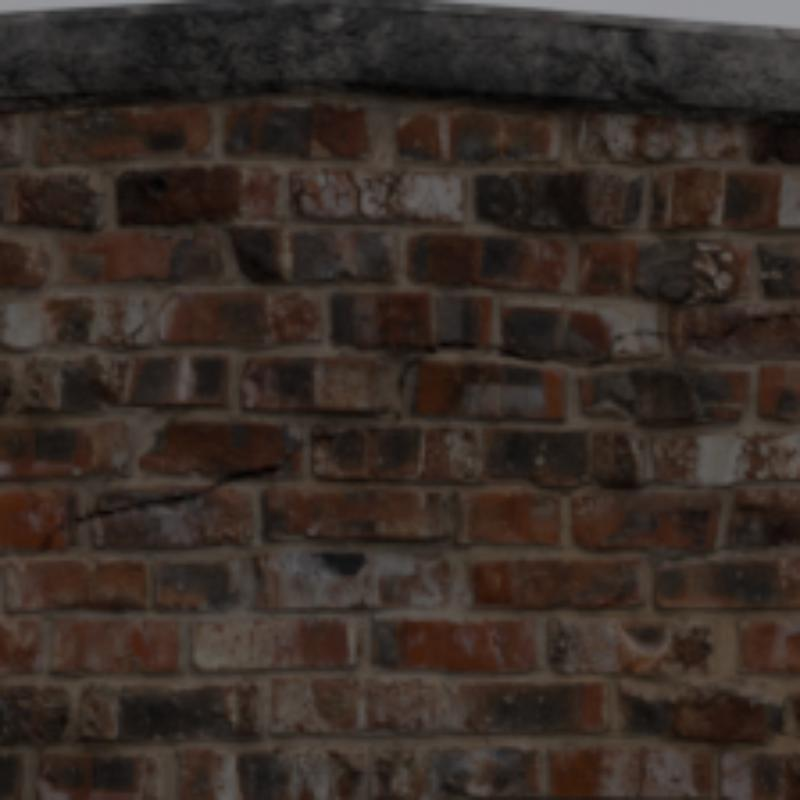pothole: (0, 332, 650, 557), (650, 314, 796, 339), (346, 171, 368, 218)
